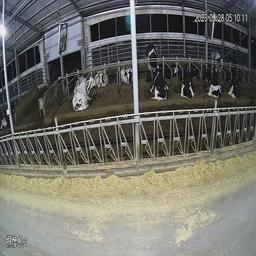cow: (143, 66, 171, 107), (74, 71, 97, 113), (203, 66, 225, 106), (175, 65, 197, 101), (226, 68, 246, 100), (209, 42, 225, 62), (95, 63, 109, 85), (145, 41, 159, 61), (121, 60, 131, 88)
